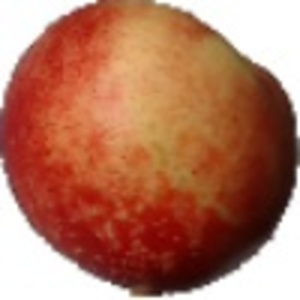nectarina: (1, 1, 300, 299)
